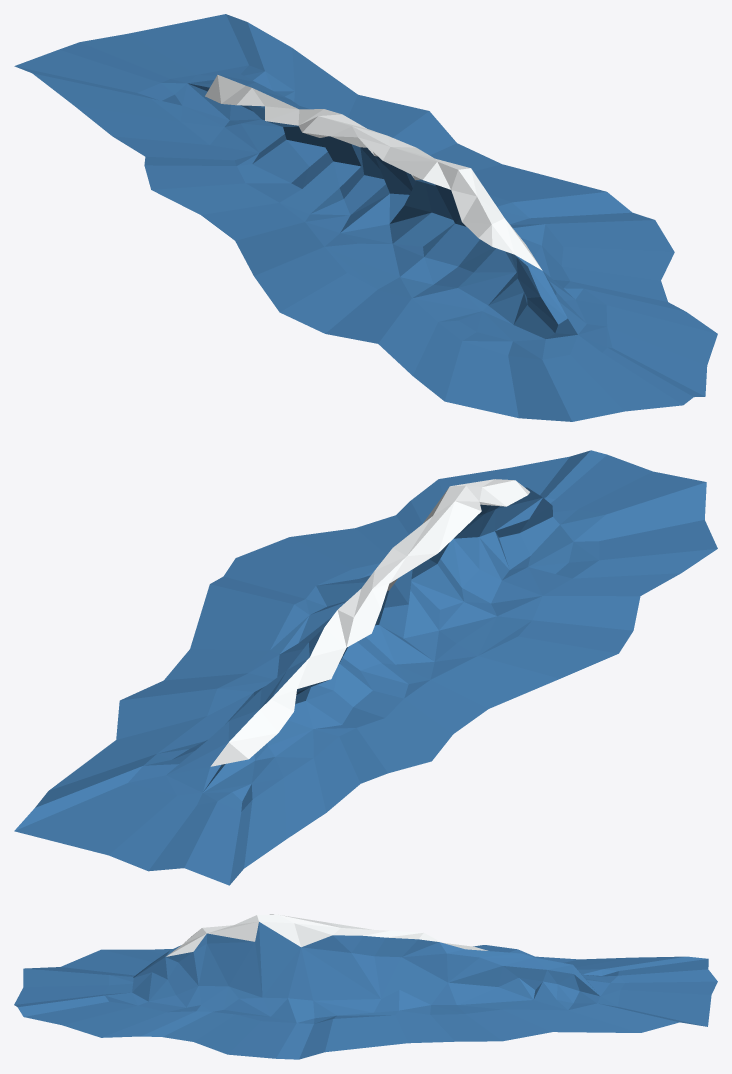
File: Water Wave A.fbx
3 views of the same model, one above another, from view 1: azimuth 30°, elevation 25°; view 2: azimuth 150°, elevation 25°; view 3: azimuth 270°, elevation 25° (orthographic). The views are drawn at different scales.
Visible parts, largest first — view 1: Water Wave A; view 2: Water Wave A; view 3: Water Wave A.
Boxes of the visible parts, x1,y1,x2,y2 form: Water Wave A: (14, 14, 717, 421); Water Wave A: (14, 450, 717, 885); Water Wave A: (14, 914, 717, 1059).
Bounding box in the file's own units: 762 × 233 × 1853.
